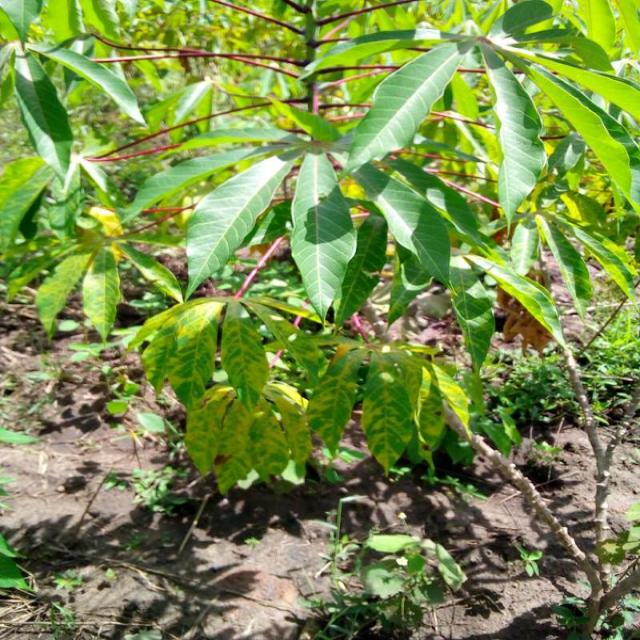cassava leaf: (1, 1, 638, 497), (183, 150, 295, 301), (342, 38, 464, 176), (478, 39, 546, 228), (288, 147, 358, 322)
